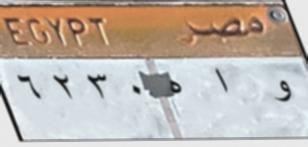0: (128, 80, 143, 102)
2: (50, 72, 75, 106)
3: (84, 67, 110, 104)
6: (12, 70, 42, 107)
alif: (210, 63, 234, 104)
haa: (165, 77, 186, 101)
waw: (272, 76, 294, 110)
